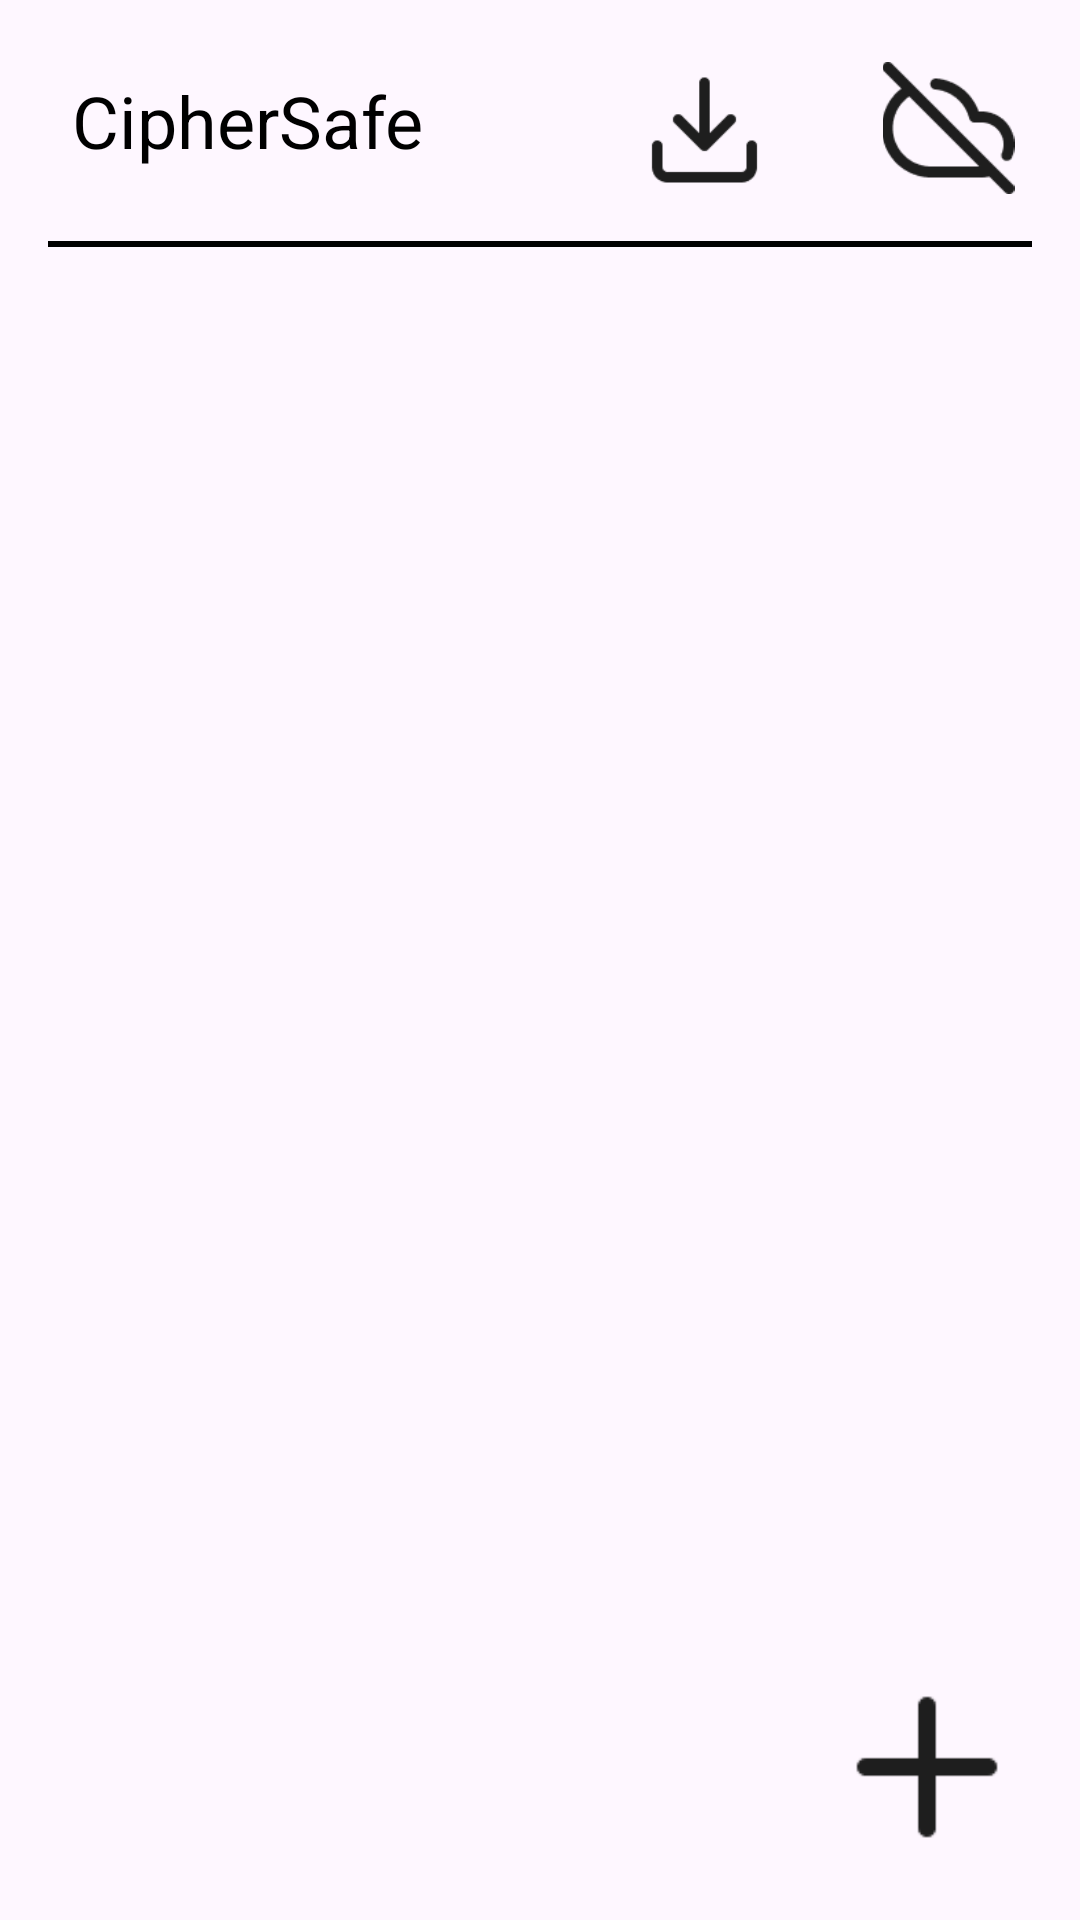

Screen size 1080*1920. Icon name, then its box in pixels as [x1=x1, y1=y1, x2=x2, y2=y2]:
clouddisable: [x1=883, y1=62, x2=1015, y2=194]
downloadicon: [x1=651, y1=77, x2=758, y2=183]
plussign: [x1=856, y1=1696, x2=998, y2=1838]
